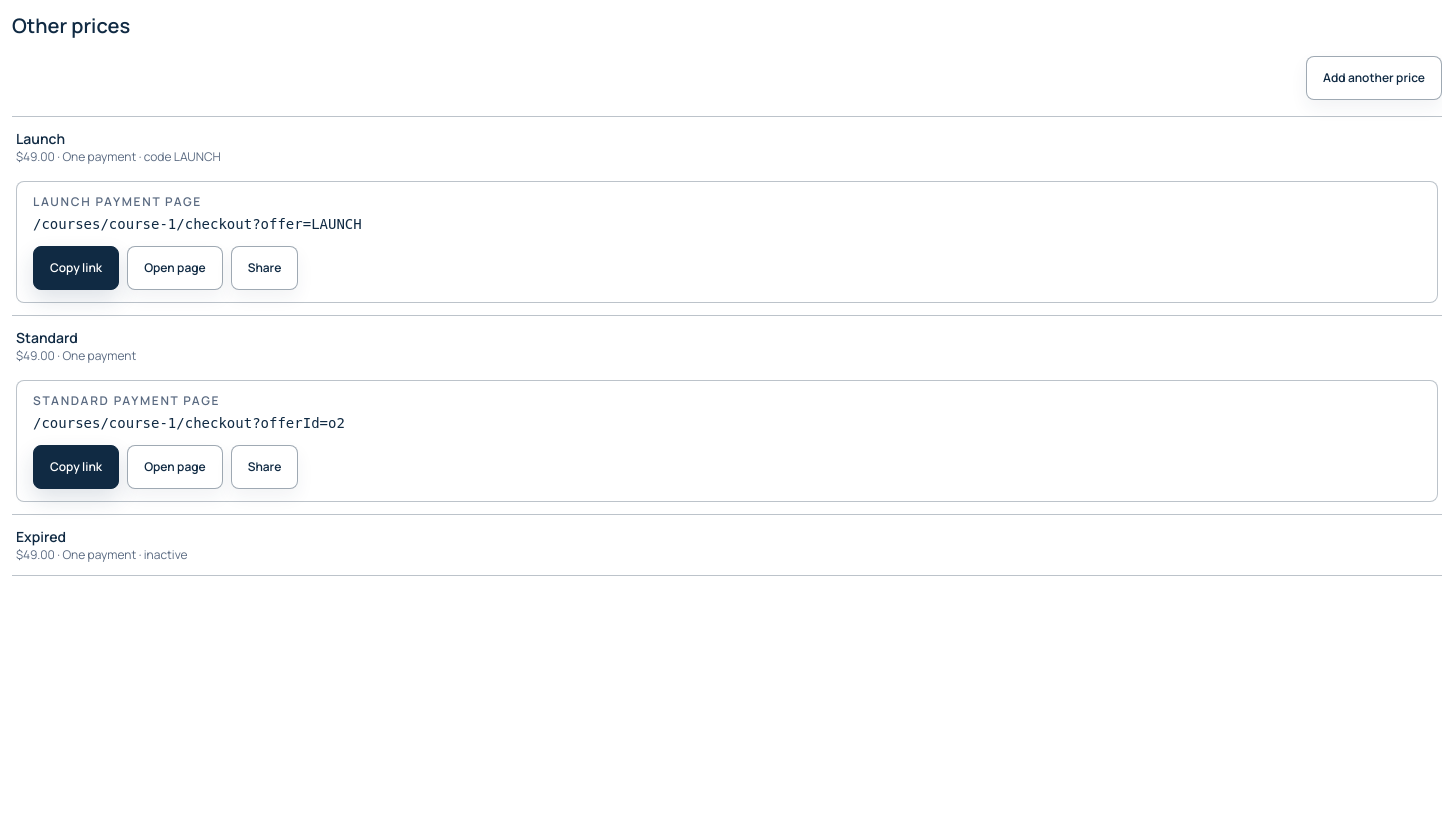
com ofertas, a lista vem antes e o formulario fica atras de Add another price
expect the text "Launch" is shown: met, box [16,129,65,148]
expect the field labelled "Amount" is not shown: met
Click the button "Add another price" at (1374, 78), box [1306,56,1442,100]
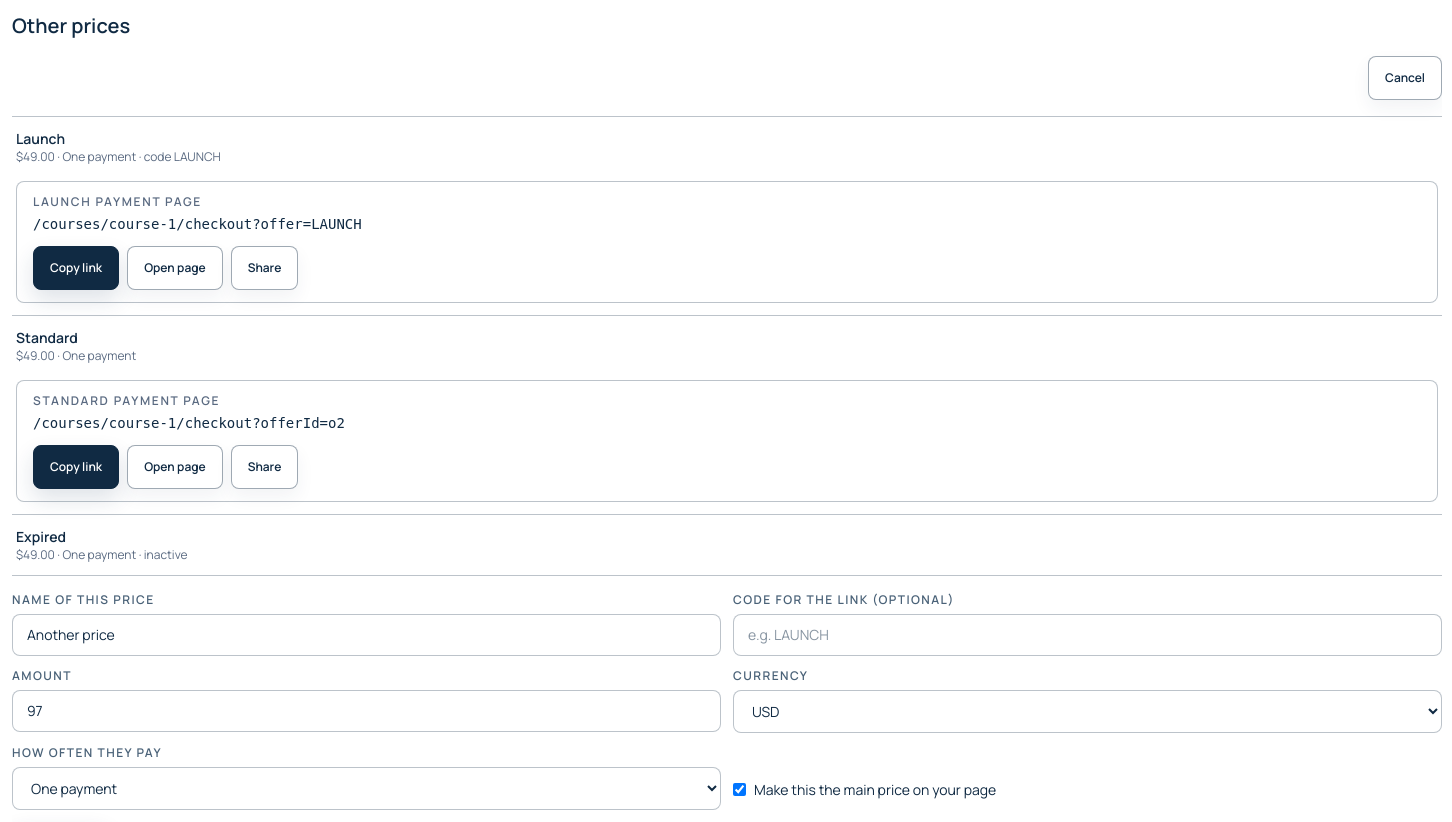
expect the number field labelled "Amount" is shown: met, box [12,690,721,732]
